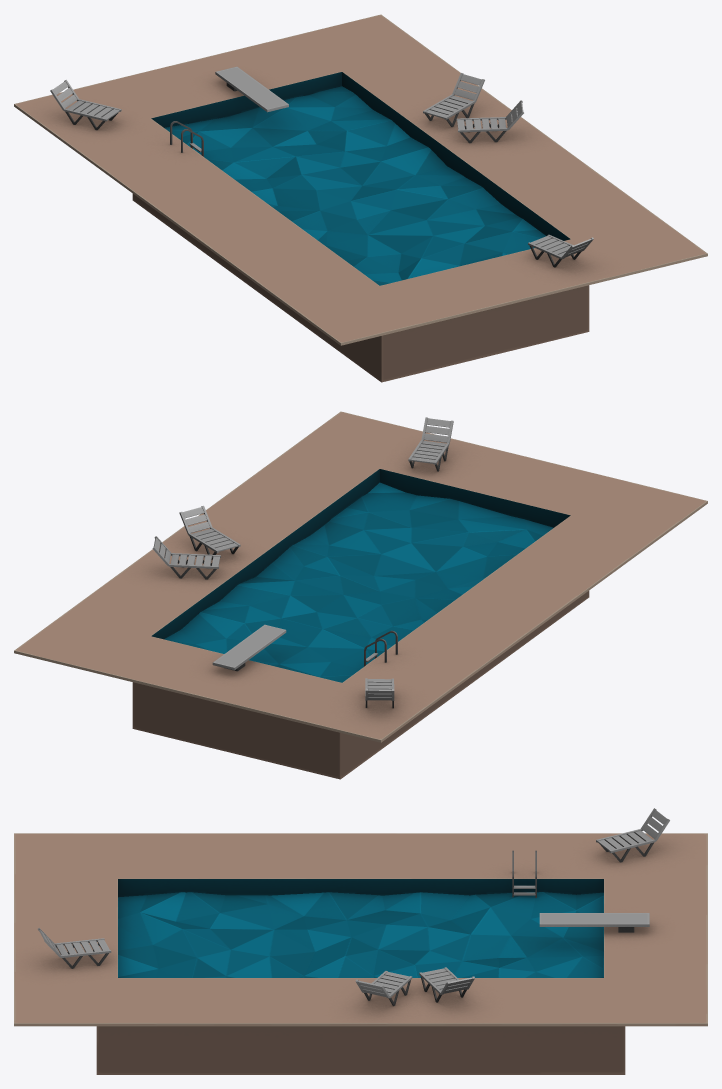
The model's file is PISCINA.gltf.
3 views of the same model, one above another, from view 1: azimuth 30°, elevation 25°; view 2: azimuth 150°, elevation 25°; view 3: azimuth 270°, elevation 25° (orthographic). The views are drawn at different scales.
Visible parts, largest first — view 1: node-0; view 2: node-0; view 3: node-0.
Boxes of the visible parts, <box> form: node-0: <box>14,14,707,382</box>; node-0: <box>14,411,707,779</box>; node-0: <box>14,808,707,1074</box>.
Bounding box in the file's own units: 13.26 × 4.03 × 20.44.
1 material, 1 textured.
